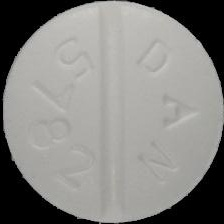33261-942: (0, 0, 224, 224)
